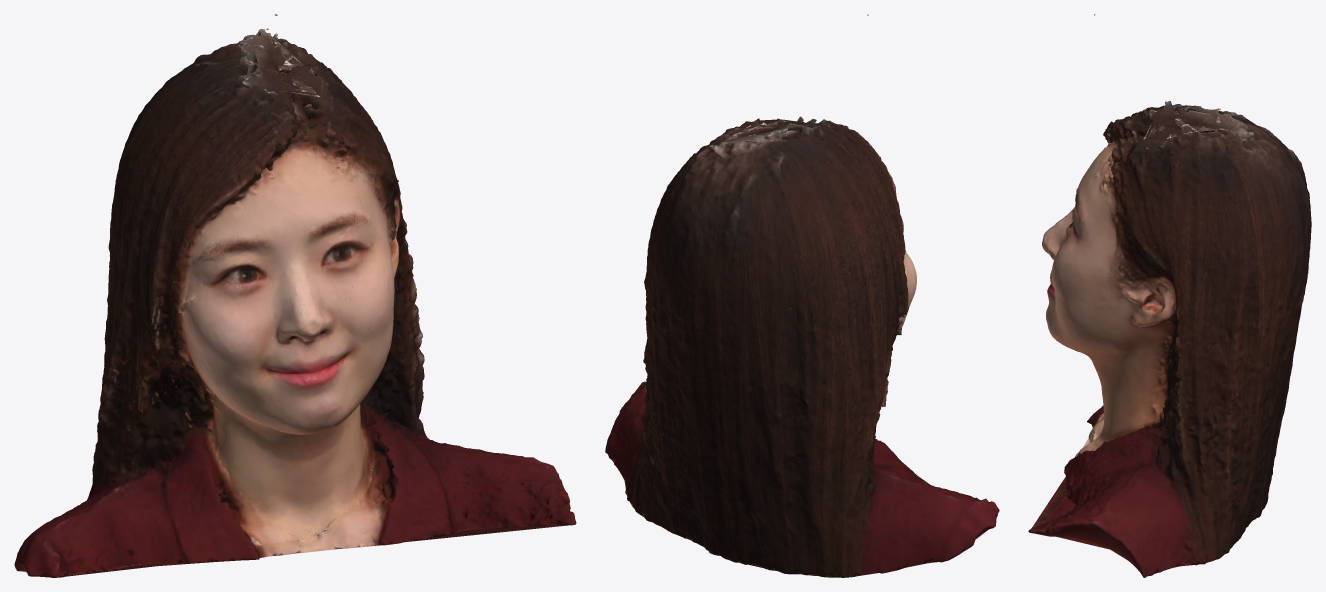
File: 真人头像_男_青年02_opt_0819.glb
The picture shows the model from 3 angles, left to right: view 1: azimuth 30°, elevation 25°; view 2: azimuth 150°, elevation 25°; view 3: azimuth 270°, elevation 25°; orthographic projection. The views are drawn at different scales.
Visible parts, largest first — view 1: material_0, material_0_1; view 2: material_0, material_0_1; view 3: material_0, material_0_1.
Part boxes in pixels (x1=…): material_0: x1=14, y1=14, x2=576, y2=577; material_0_1: x1=15, y1=14, x2=576, y2=577; material_0: x1=605, y1=14, x2=999, y2=577; material_0_1: x1=611, y1=14, x2=999, y2=576; material_0: x1=1028, y1=14, x2=1311, y2=577; material_0_1: x1=1030, y1=102, x2=1309, y2=566.
Bounding box in the file's own units: 0.2555 × 0.3 × 0.1639.
Materials: 1 (1 with a texture image).
